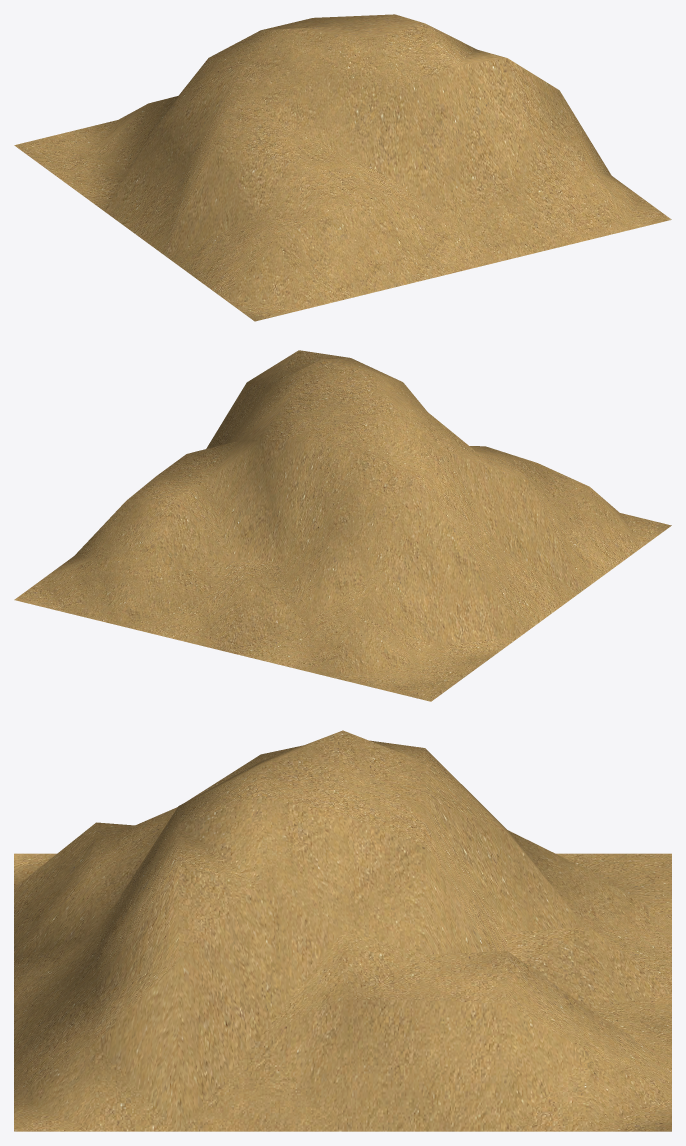
The model's file is beachsand.dae.
3 views of the same model, one above another, from view 1: azimuth 30°, elevation 25°; view 2: azimuth 150°, elevation 25°; view 3: azimuth 270°, elevation 25° (orthographic). The views are drawn at different scales.
Parts seen in each view (by area): view 1: Sand_Pile; view 2: Sand_Pile; view 3: Sand_Pile.
Boxes of the visible parts, x1,y1,x2,y2 form: Sand_Pile: (14,14,671,321); Sand_Pile: (14,350,671,701); Sand_Pile: (14,730,671,1131).
Bounding box in the file's own units: 1 × 1 × 0.3858.
